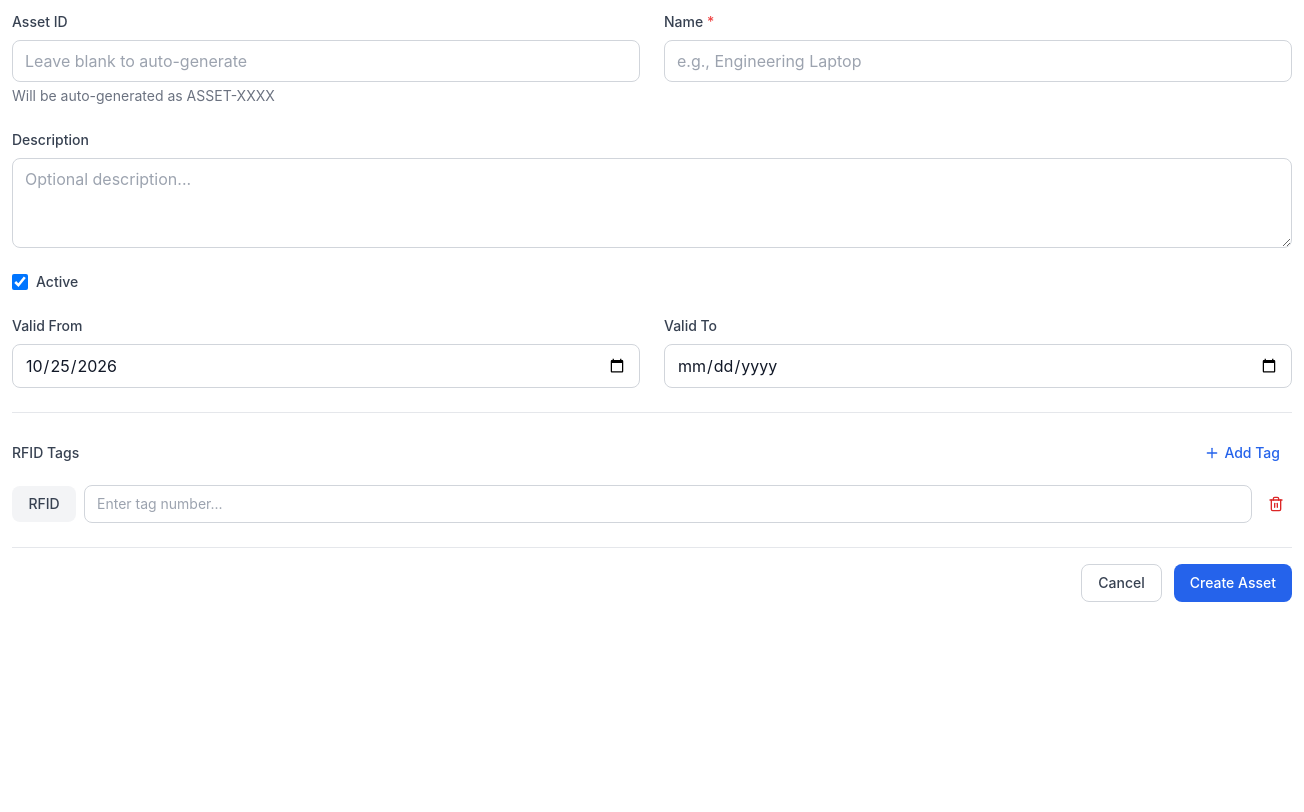
Test: AssetForm › surfaces a submit-time throw as a visible error banner (TRA-820)
In the field labelled "Name *": (978, 61) [664,40,1292,82], type "Test Asset"
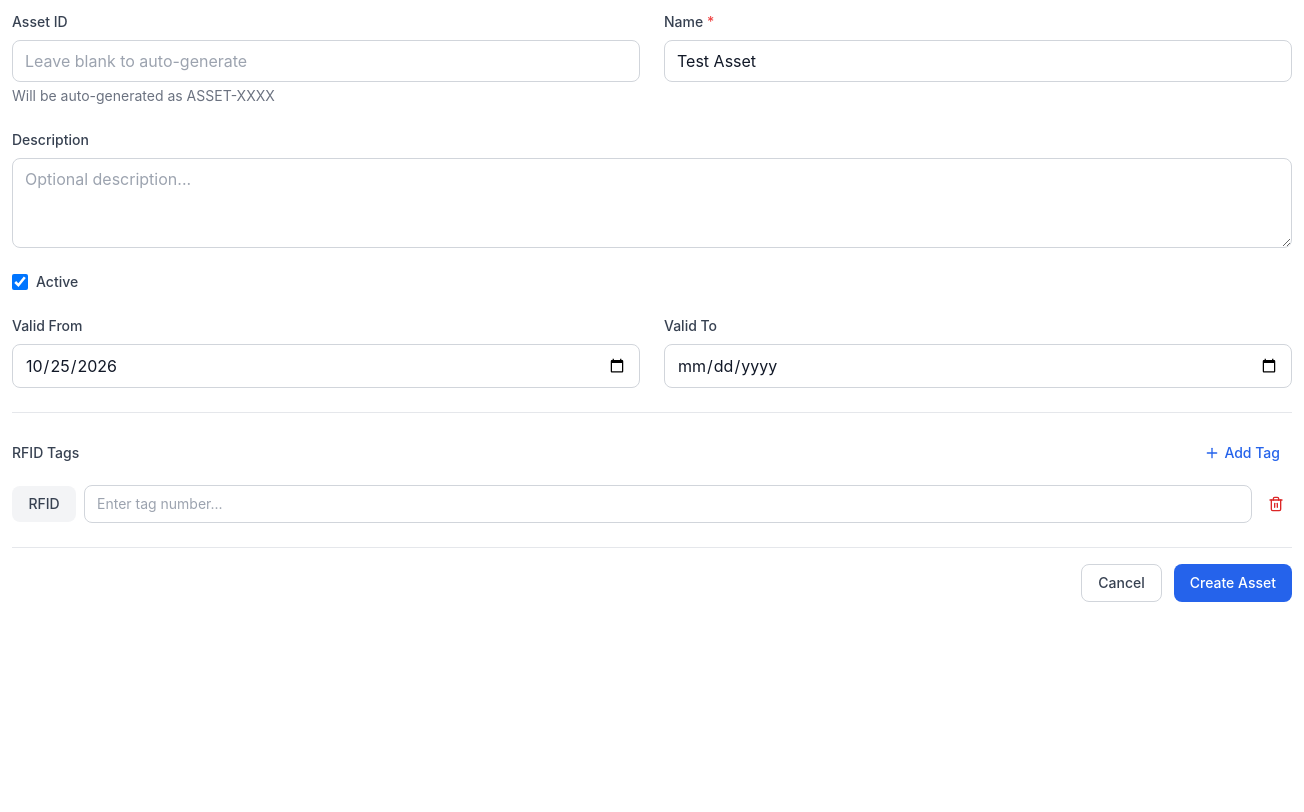
Click the button "Create Asset": (1233, 583) [1174,564,1292,602]
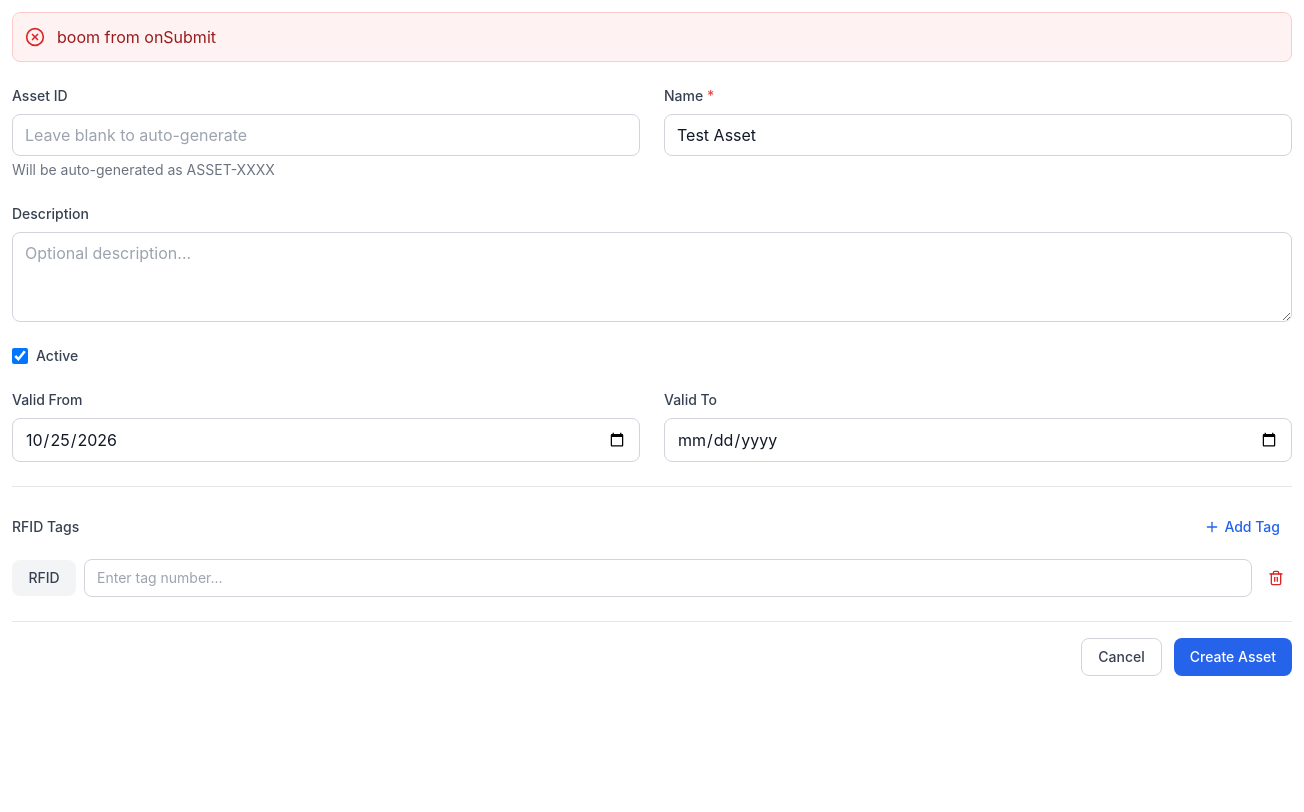
Expected: the text "boom from onSubmit" is shown, [57,25,216,49]
